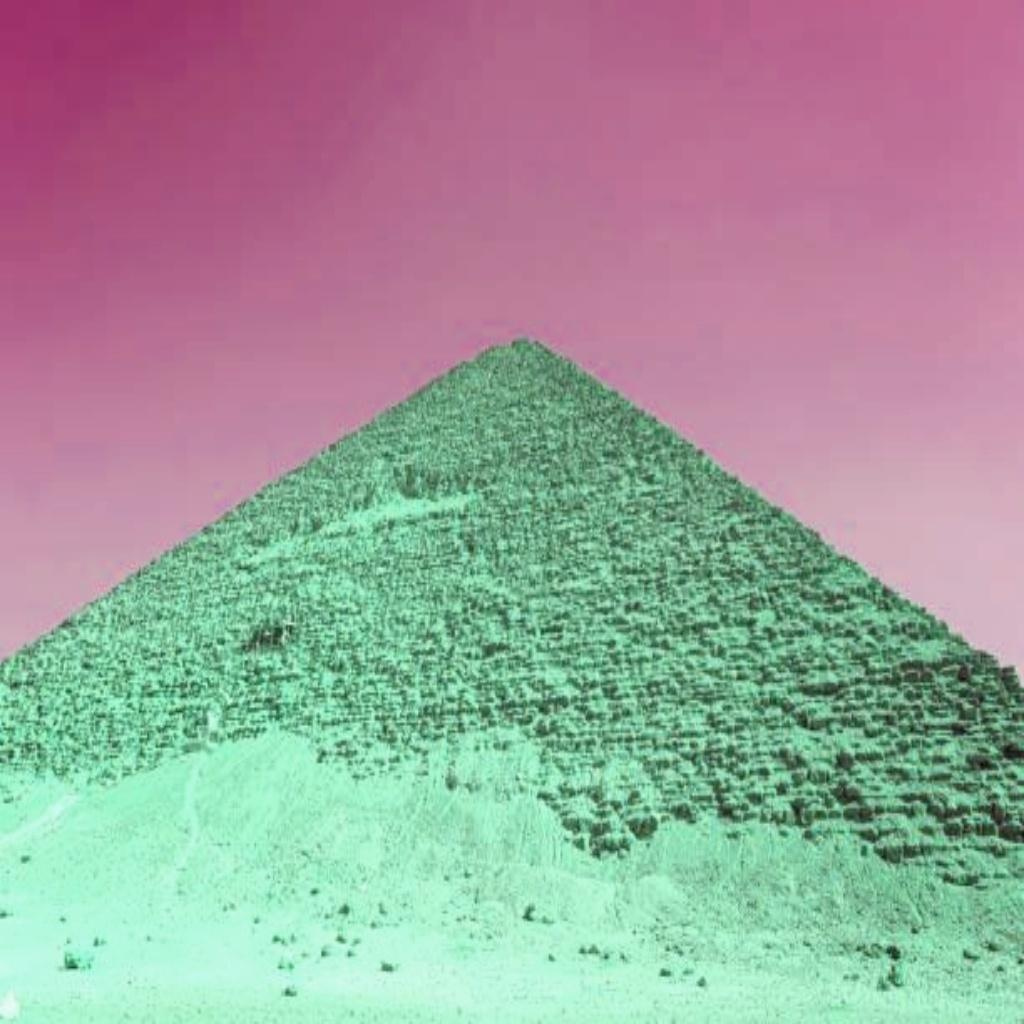Great Pyramids of Giza: (0, 329, 1021, 931)
